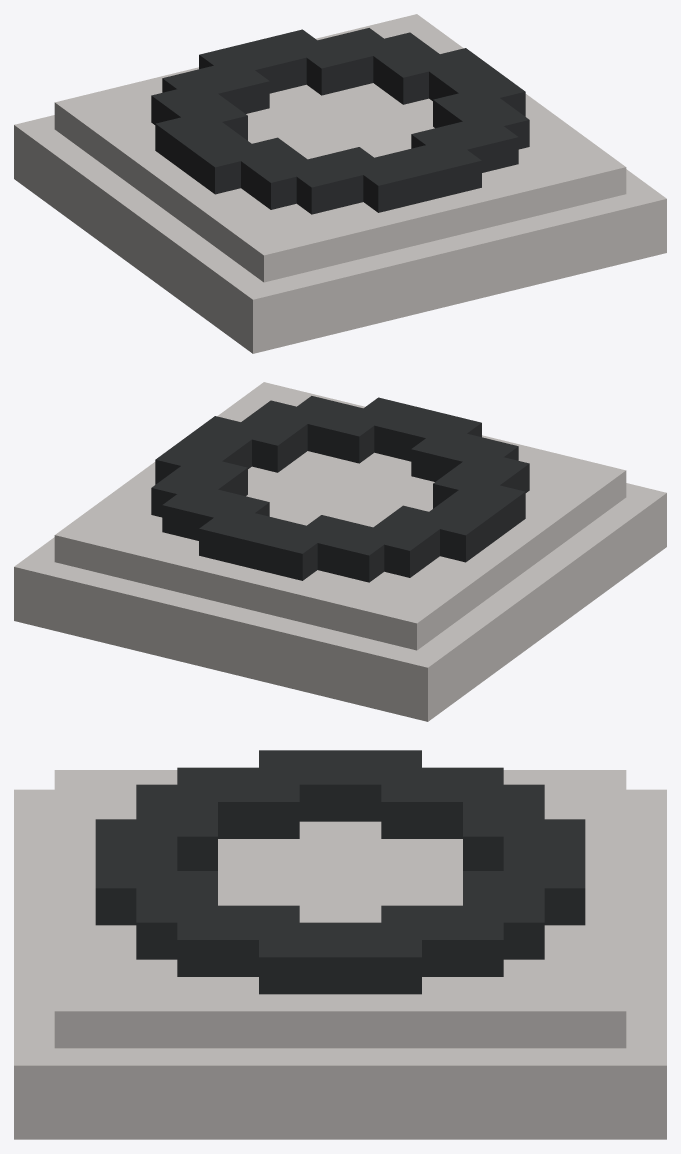
File: o-v2-white-black.gltf
3 views of the same model, one above another, from view 1: azimuth 30°, elevation 25°; view 2: azimuth 150°, elevation 25°; view 3: azimuth 270°, elevation 25° (orthographic). The views are drawn at different scales.
Visible parts, largest first — view 1: Untitled; view 2: Untitled; view 3: Untitled.
Part boxes in pixels (<box>): Untitled: <box>14,14,666,353</box>; Untitled: <box>14,382,666,721</box>; Untitled: <box>14,750,666,1139</box>.
Bounding box in the file's own units: 1.6 × 0.4 × 1.6.
1 material, 1 textured.
